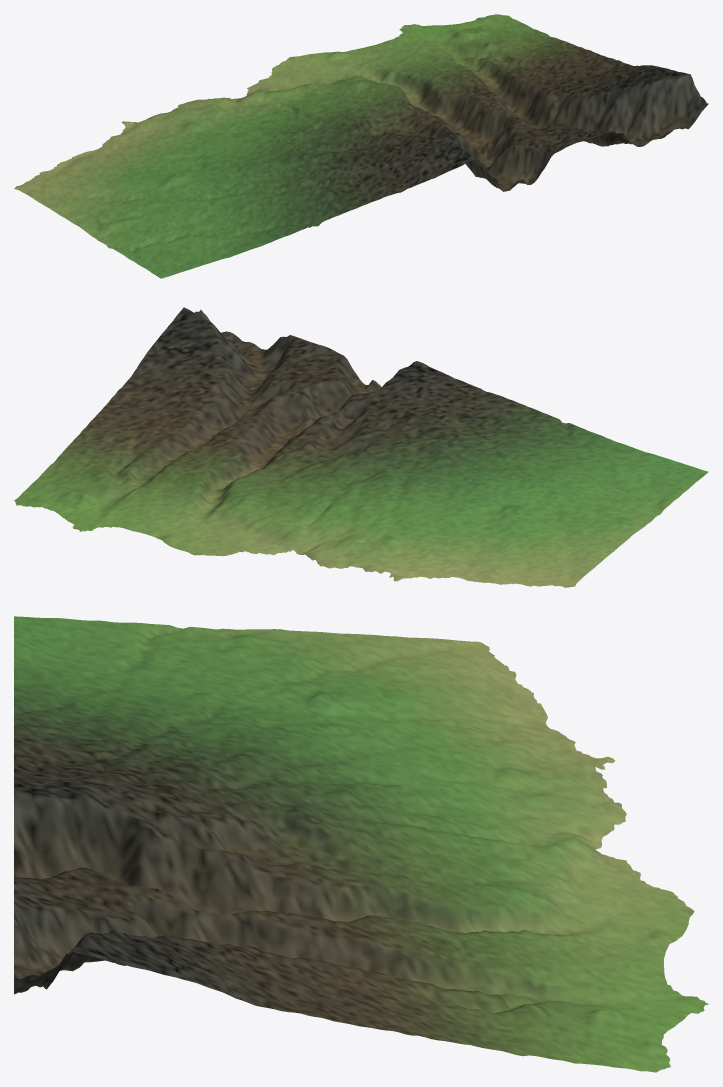
The model's file is lareunion-terrain-2.glb.
3 views of the same model, one above another, from view 1: azimuth 30°, elevation 25°; view 2: azimuth 150°, elevation 25°; view 3: azimuth 270°, elevation 25° (orthographic). The views are drawn at different scales.
Parts seen in each view (by area): view 1: LaReunionRgeAltiTerrain_2; view 2: LaReunionRgeAltiTerrain_2; view 3: LaReunionRgeAltiTerrain_2.
Boxes of the visible parts, box(x1,y1,x2,y2) form: LaReunionRgeAltiTerrain_2: box(14, 14, 708, 278); LaReunionRgeAltiTerrain_2: box(14, 307, 708, 587); LaReunionRgeAltiTerrain_2: box(14, 616, 708, 1072).
Size of the model in its own units: 55.29 by 7.25 by 37.86.
